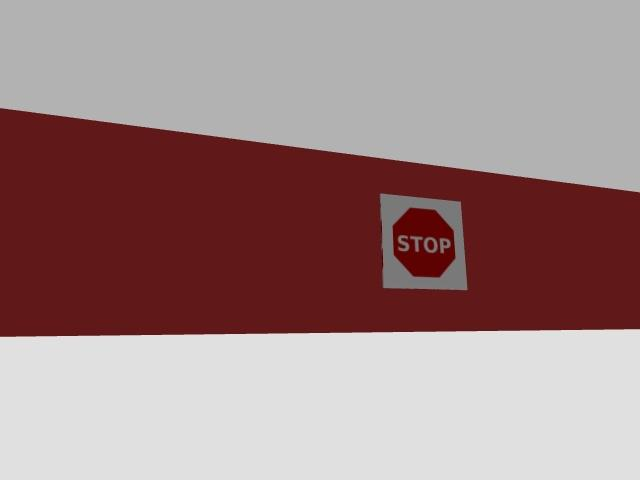stop: (380, 194, 467, 289)
